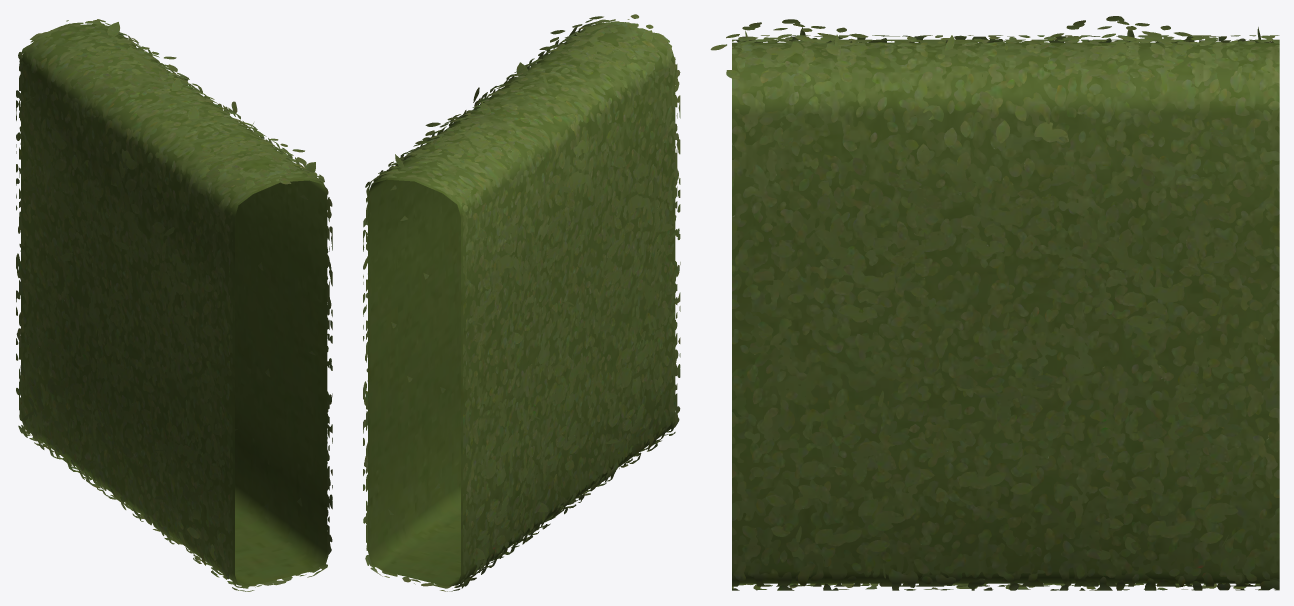
3 views of the same model, side by side, from view 1: azimuth 30°, elevation 25°; view 2: azimuth 150°, elevation 25°; view 3: azimuth 270°, elevation 25° (orthographic). The views are drawn at different scales.
Visible parts, largest first — view 1: body0_model0_lod0_mesh0; view 2: body0_model0_lod0_mesh0; view 3: body0_model0_lod0_mesh0.
Boxes of the visible parts, <box> form: body0_model0_lod0_mesh0: <box>16,19,332,591</box>; body0_model0_lod0_mesh0: <box>363,14,680,591</box>; body0_model0_lod0_mesh0: <box>710,16,1279,590</box>.
Size of the model in its own units: 45.63 by 139 by 133.
1 material, 1 textured.
